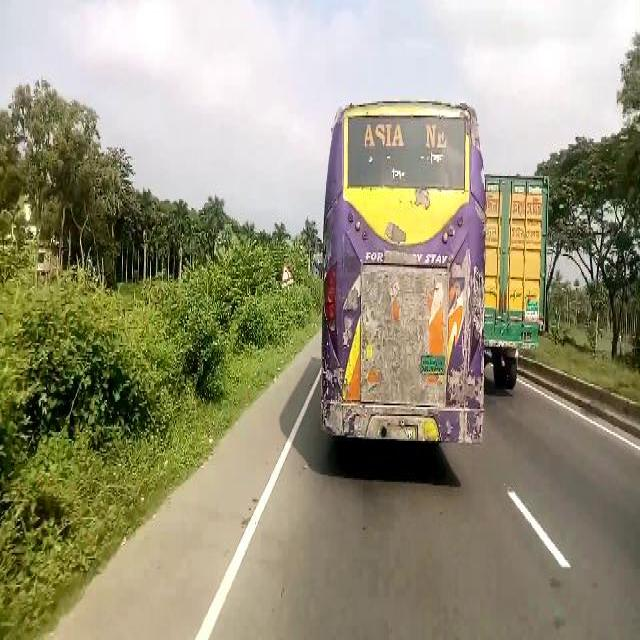Bus: (322, 98, 483, 444)
Truck: (484, 175, 554, 388)
